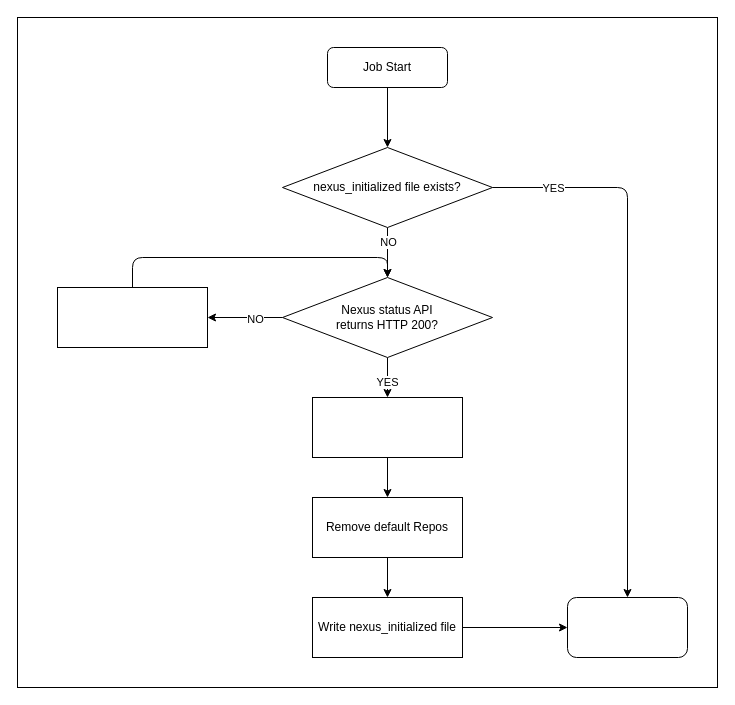
The diagram is 735 pixels wide and 705 high, and some of its shapes have lost their labels. Here are the shapes that lost their labels. From the top down, the box of each, then its label:
(56, 286, 208, 348): Sleep for 10 seconds
(312, 396, 462, 458): Reset Admin Password from default
(566, 596, 688, 658): Job Complete
